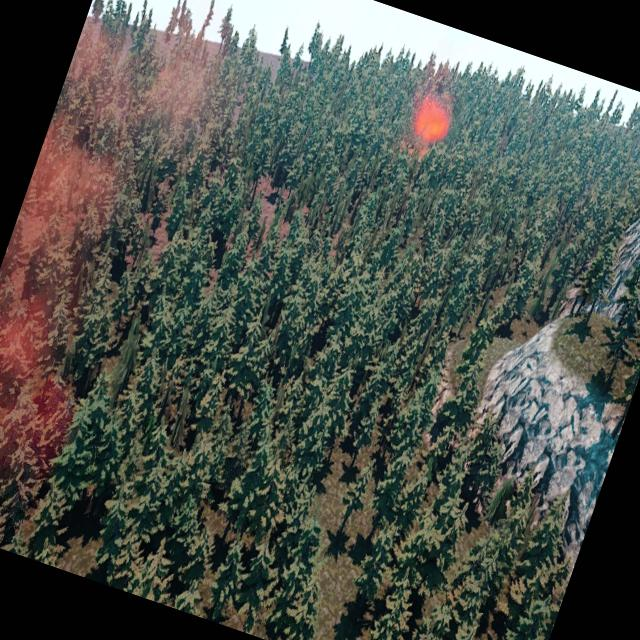fire: (408, 86, 458, 146)
smoke: (0, 0, 231, 563)
